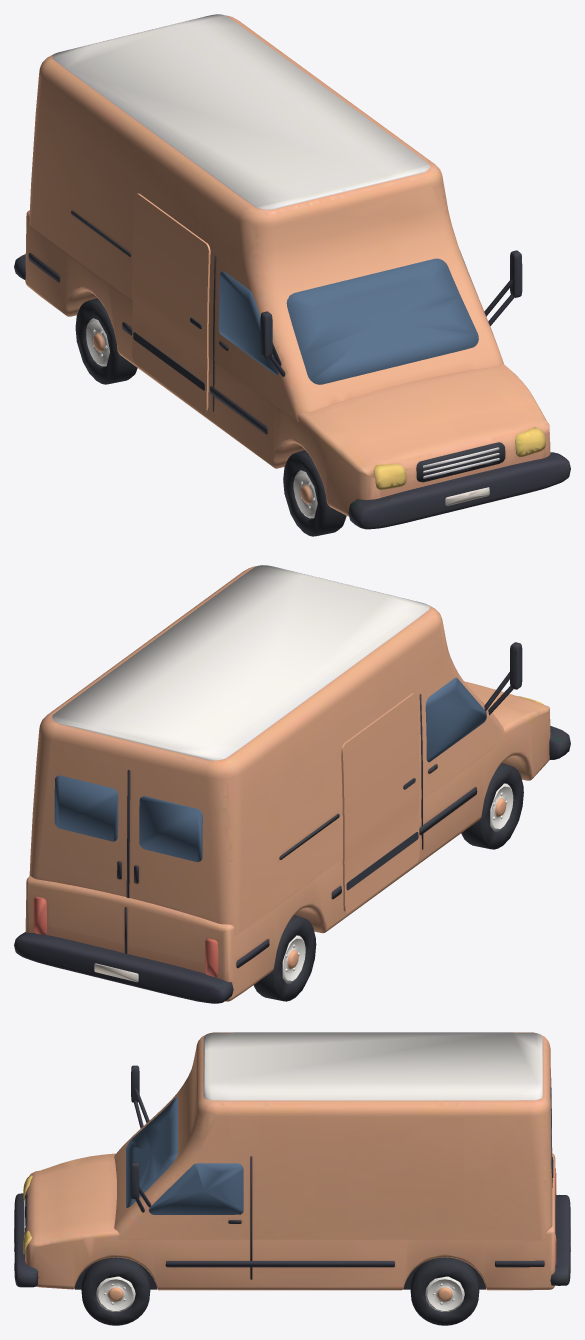
The model's file is van.glb.
3 renders of one model, top to bottom at view 1: azimuth 30°, elevation 25°; view 2: azimuth 150°, elevation 25°; view 3: azimuth 270°, elevation 25°, orthographic. The views are drawn at different scales.
Visible parts, largest first — view 1: body, windows, sliding_door, wheel_FR, wheel_RR; view 2: body, sliding_door, windows, wheel_FR, wheel_RR; view 3: body, windows, wheel_FL, wheel_RL.
Boxes of the visible parts, bbox=[...] form: body: bbox=[14, 14, 570, 529]; windows: bbox=[218, 252, 478, 384]; sliding_door: bbox=[132, 193, 210, 412]; wheel_FR: bbox=[283, 450, 346, 536]; wheel_RR: bbox=[75, 298, 137, 384]; body: bbox=[14, 565, 570, 1003]; sliding_door: bbox=[341, 693, 419, 912]; windows: bbox=[54, 677, 486, 862]; wheel_FR: bbox=[461, 763, 523, 849]; wheel_RR: bbox=[253, 915, 316, 1001]; body: bbox=[14, 1032, 570, 1290]; windows: bbox=[126, 1078, 551, 1214]; wheel_FL: bbox=[81, 1257, 150, 1325]; wheel_RL: bbox=[410, 1257, 479, 1325].
Size of the model in its own units: 2.12 by 2.2 by 5.
Materials: 6 (1 with a texture image).
